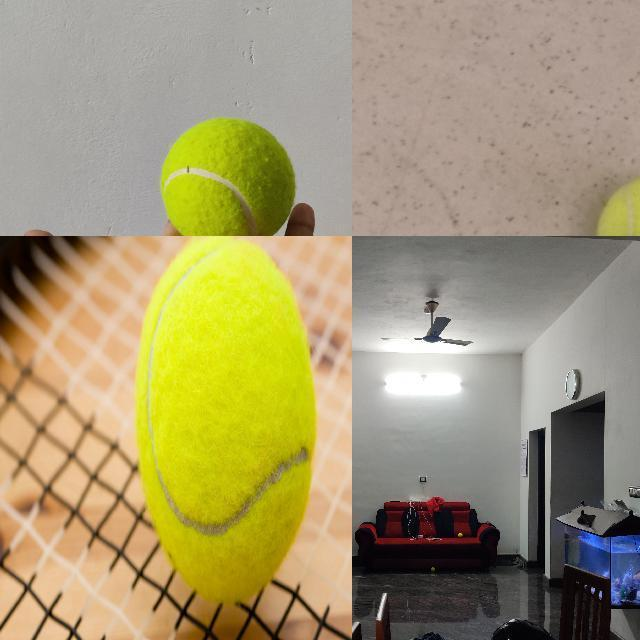tennis-ball: (134, 237, 316, 603), (158, 117, 297, 235), (430, 567, 434, 572), (458, 533, 462, 537)
